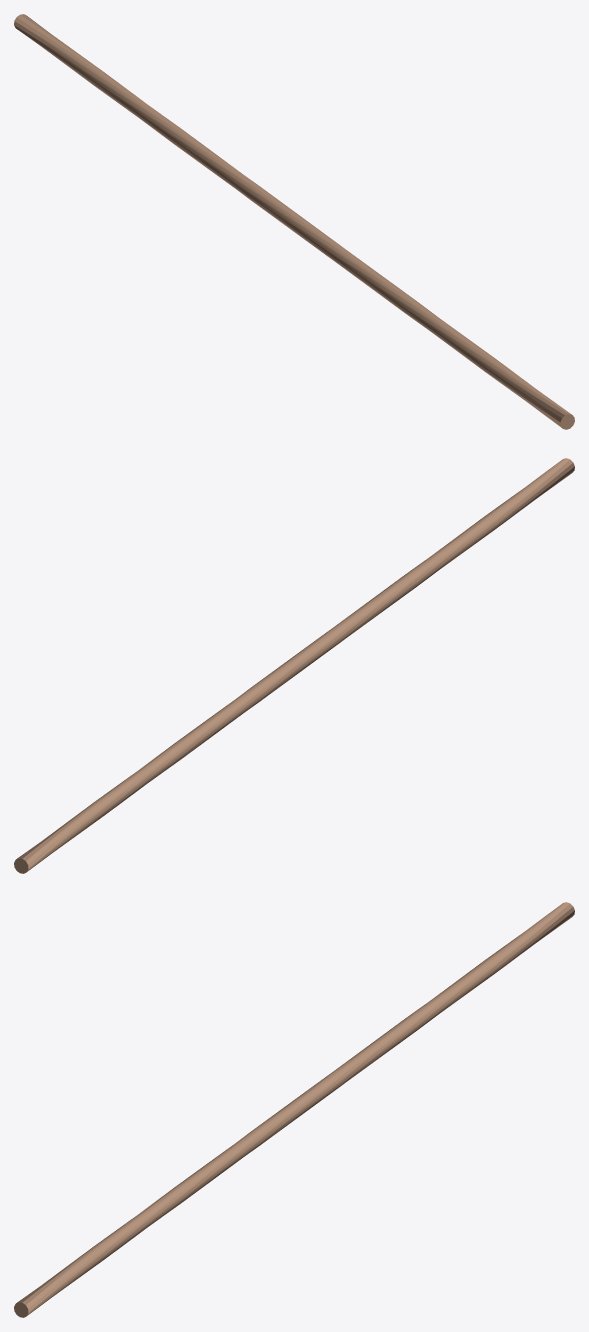
File: Rope.fbx
3 views of the same model, one above another, from view 1: azimuth 30°, elevation 25°; view 2: azimuth 150°, elevation 25°; view 3: azimuth 330°, elevation 25° (orthographic).
Visible parts, largest first — view 1: Rope; view 2: Rope; view 3: Rope.
Boxes of the visible parts, bbox=[...] form: Rope: bbox=[14, 14, 574, 429]; Rope: bbox=[14, 458, 574, 873]; Rope: bbox=[14, 902, 574, 1317].
Bounding box in the file's own units: 0.00996 × 0.00996 × 0.6424.
